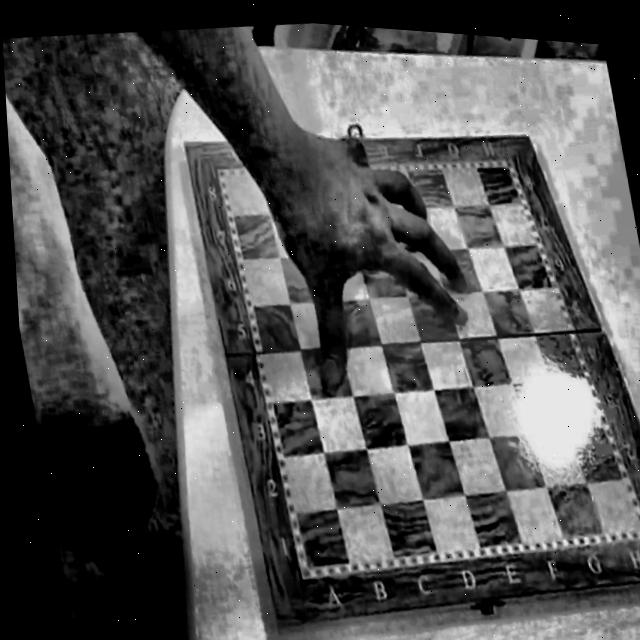chessboard: (186, 132, 640, 623)
